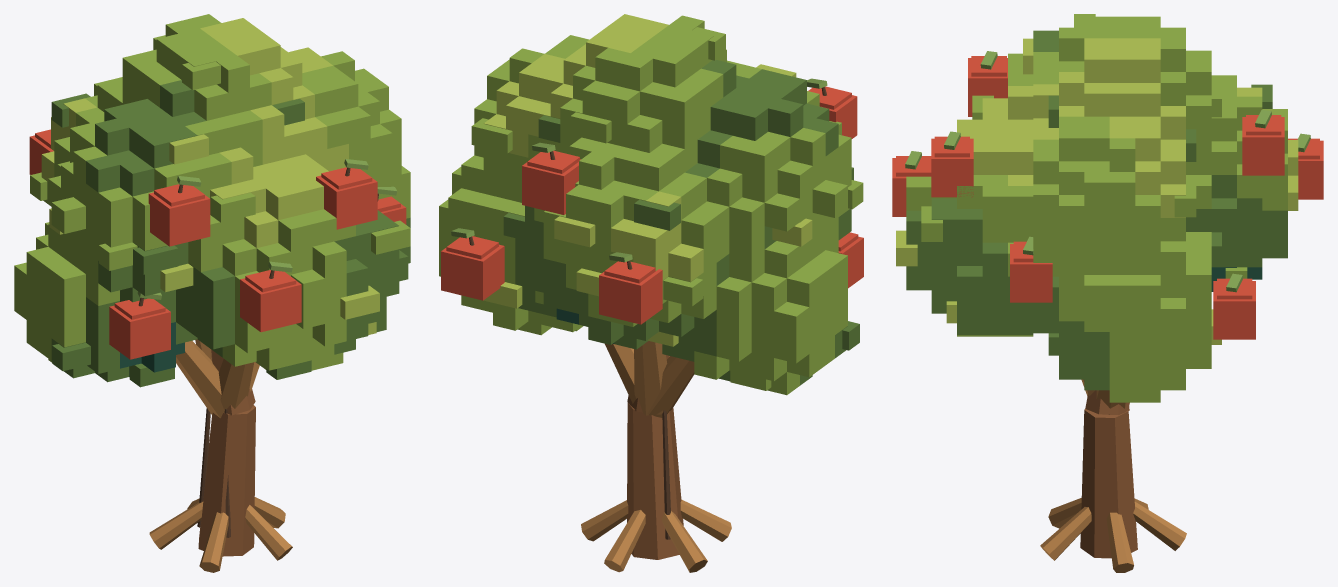
File: tree_apple.glb
The picture shows the model from 3 angles, left to right: view 1: azimuth 30°, elevation 25°; view 2: azimuth 150°, elevation 25°; view 3: azimuth 270°, elevation 25°; orthographic projection. The views are drawn at different scales.
Visible parts, largest first — view 1: canopy__tree_leaf_light.028, canopy__tree_leaf_mid.028, canopy__tree_leaf_sun.028, fruit__red2.005, body__wood2.032, body__wood.033, canopy__tree_leaf_shadow.028, body__wood_dark.036, fruit__leaf2.009; view 2: canopy__tree_leaf_light.028, canopy__tree_leaf_mid.028, canopy__tree_leaf_sun.028, fruit__red2.005, body__wood2.032, body__wood.033, body__wood_dark.036, fruit__leaf2.009; view 3: canopy__tree_leaf_light.028, canopy__tree_leaf_mid.028, canopy__tree_leaf_sun.028, fruit__red2.005, body__wood.033, body__wood2.032, fruit__leaf2.009.
Boxes of the visible parts, left/top/right/bottom form: canopy__tree_leaf_light.028: left=14, top=14, right=410, bottom=370; canopy__tree_leaf_mid.028: left=51, top=80, right=410, bottom=387; canopy__tree_leaf_sun.028: left=41, top=18, right=379, bottom=334; fruit__red2.005: left=29, top=129, right=406, bottom=359; body__wood2.032: left=149, top=339, right=292, bottom=572; body__wood.033: left=198, top=350, right=255, bottom=556; canopy__tree_leaf_shadow.028: left=120, top=322, right=184, bottom=376; body__wood_dark.036: left=138, top=167, right=378, bottom=537; fruit__leaf2.009: left=137, top=159, right=397, bottom=299; canopy__tree_leaf_light.028: left=439, top=15, right=863, bottom=395; canopy__tree_leaf_mid.028: left=503, top=60, right=859, bottom=385; canopy__tree_leaf_sun.028: left=483, top=14, right=812, bottom=346; fruit__red2.005: left=441, top=86, right=863, bottom=324; body__wood2.032: left=581, top=341, right=731, bottom=572; body__wood.033: left=627, top=355, right=683, bottom=559; body__wood_dark.036: left=469, top=87, right=826, bottom=539; fruit__leaf2.009: left=451, top=78, right=827, bottom=262; canopy__tree_leaf_light.028: left=906, top=14, right=1287, bottom=402; canopy__tree_leaf_mid.028: left=906, top=30, right=1287, bottom=390; canopy__tree_leaf_sun.028: left=896, top=38, right=1298, bottom=344; fruit__red2.005: left=892, top=56, right=1323, bottom=339; body__wood.033: left=1080, top=390, right=1137, bottom=558; body__wood2.032: left=1040, top=379, right=1186, bottom=572; fruit__leaf2.009: left=905, top=51, right=1310, bottom=292.
Size of the model in its own units: 2.93 by 3.97 by 3.05.
